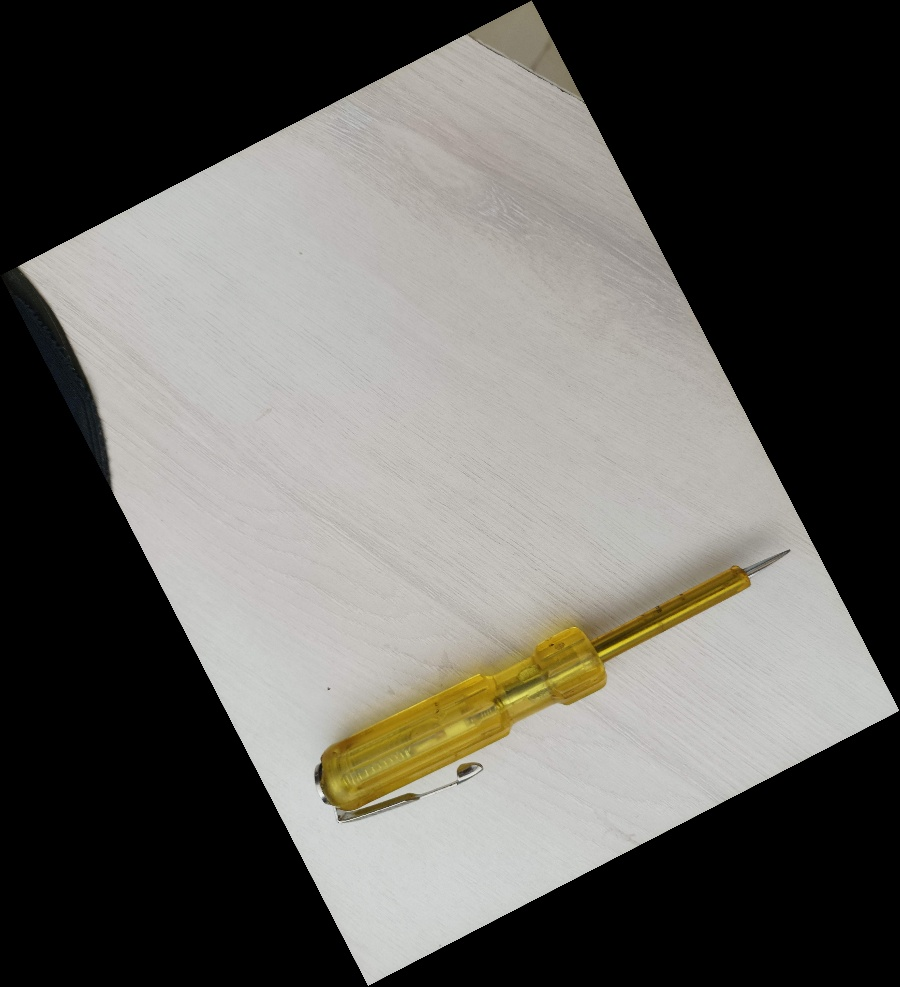screwdriver: (310, 541, 798, 828)
